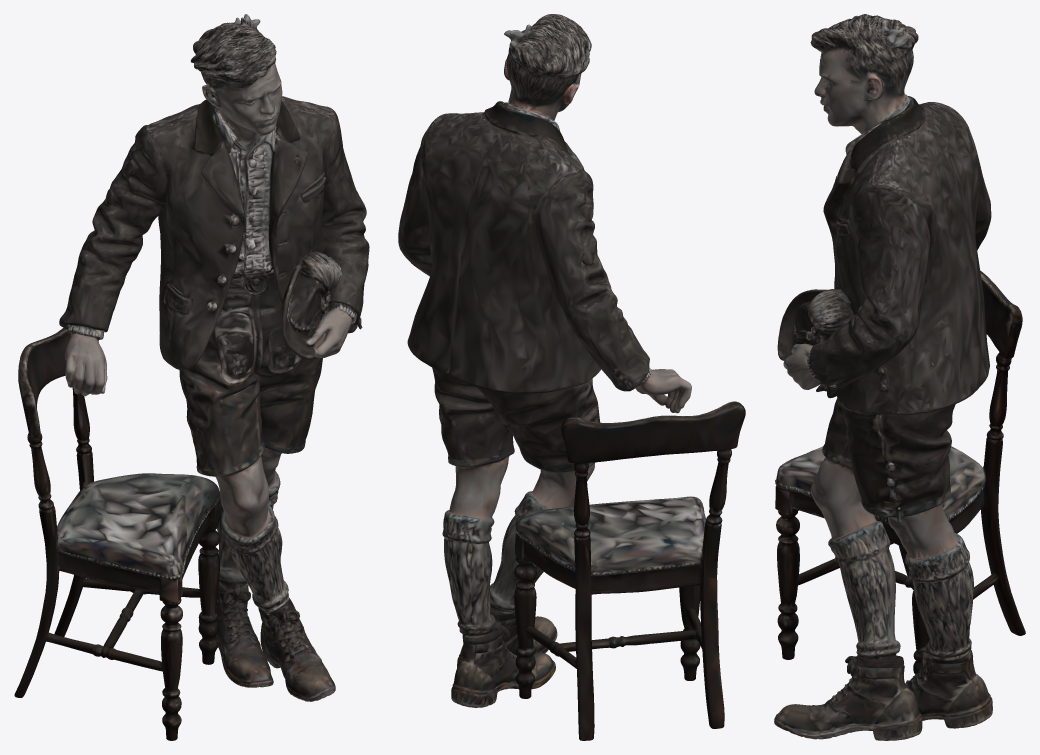
3 views of the same model, side by side, from view 1: azimuth 30°, elevation 25°; view 2: azimuth 150°, elevation 25°; view 3: azimuth 270°, elevation 25° (orthographic). The views are drawn at different scales.
Size of the model in its own units: 0.5294 by 0.9813 by 0.3206.
